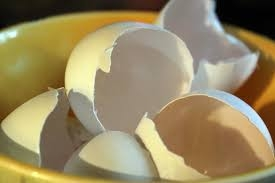kitchen_waste: (61, 17, 202, 139), (130, 80, 274, 183), (155, 1, 262, 105), (1, 85, 76, 178), (59, 122, 161, 183)
